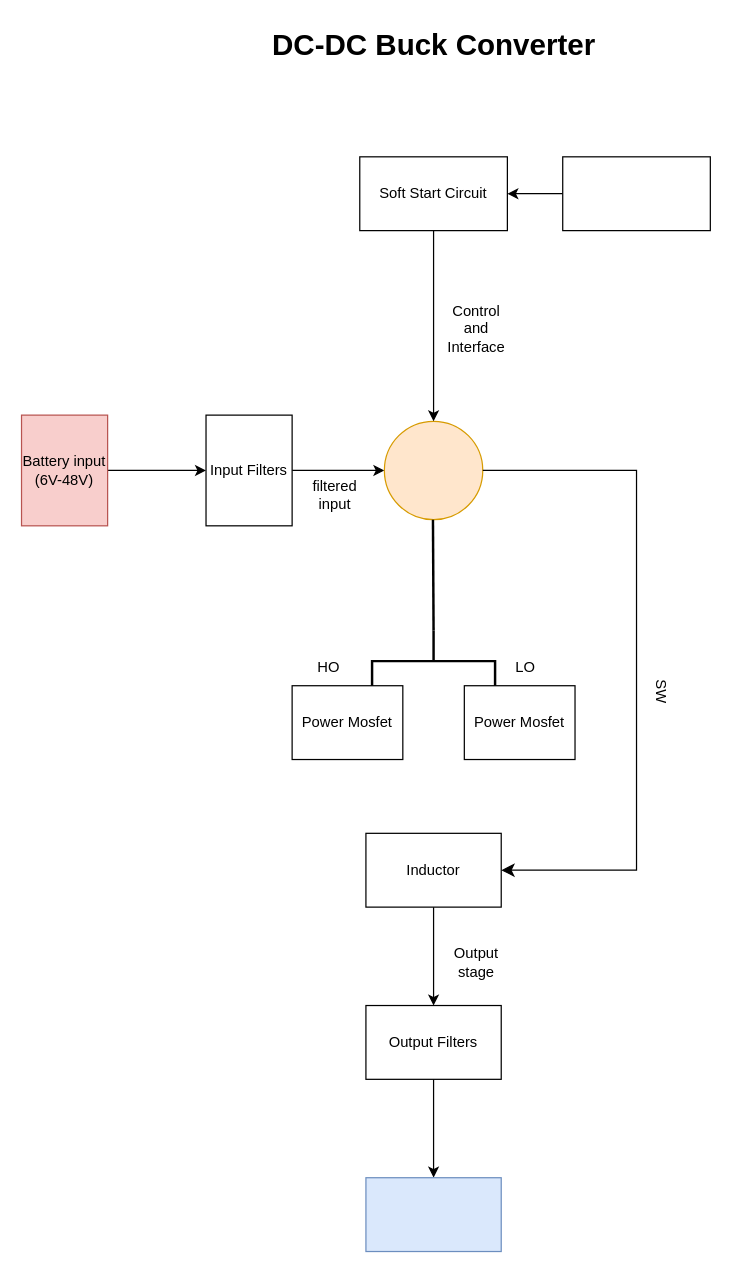
This 732x1273 diagram has some shape labels left out. The centre of each missing label's shape, as x and y in pixels:
Enable/Shutdown Pin: point 635,193
Output (5V) (Max 5A): point 433,1214
Switching Circuit (LM5148): point 433,470
